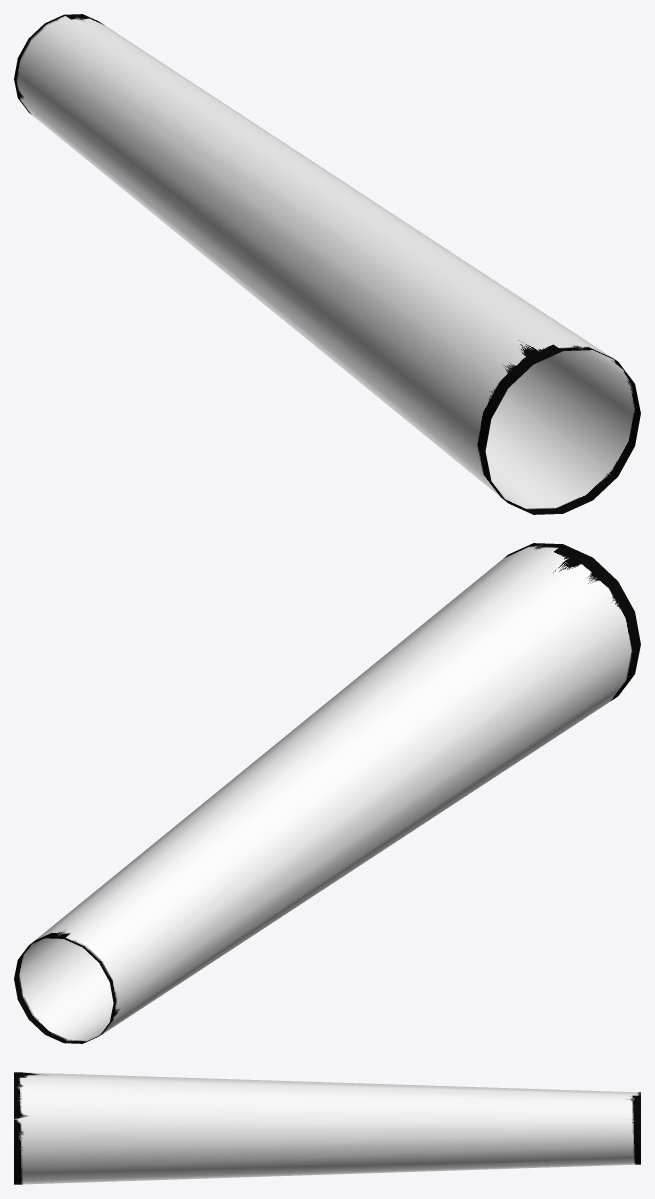
Rendered from su35EngineFire.fbx.
The picture shows the model from 3 angles, top to bottom: view 1: azimuth 30°, elevation 25°; view 2: azimuth 150°, elevation 25°; view 3: azimuth 270°, elevation 25°; orthographic projection. The views are drawn at different scales.
Visible parts, largest first — view 1: JetEngineFire; view 2: JetEngineFire; view 3: JetEngineFire.
Part boxes in pixels (x1,y1,x2,y2): JetEngineFire: (14,14,640,514); JetEngineFire: (14,543,640,1043); JetEngineFire: (14,1072,640,1184).
Size of the model in its own units: 70.09 by 70.09 by 390.
1 material, 1 textured.
